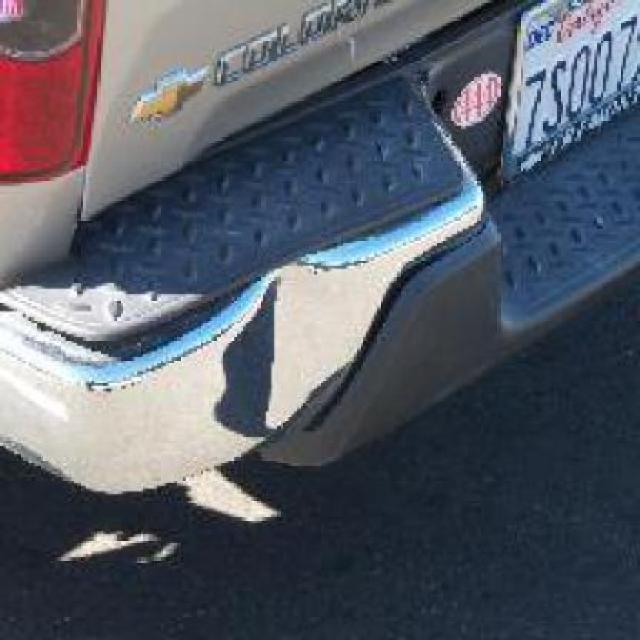dent-or-scratch: (218, 256, 338, 449)
